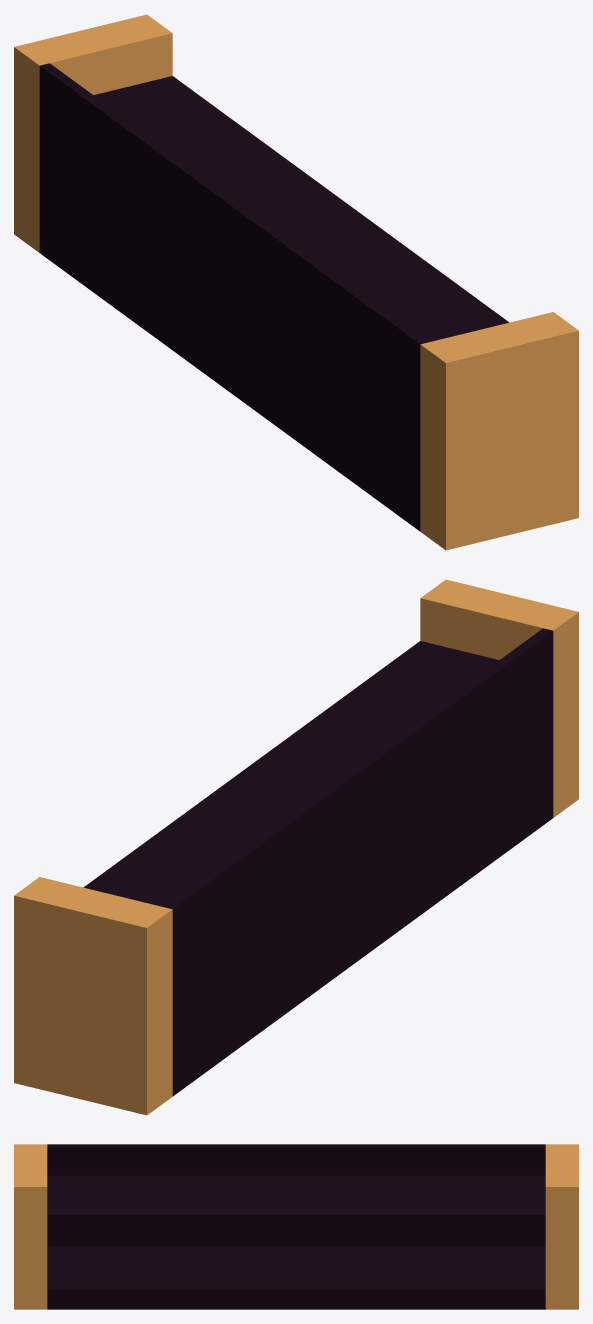
Rendered from Shelf.fbx.
3 renders of one model, top to bottom at view 1: azimuth 30°, elevation 25°; view 2: azimuth 150°, elevation 25°; view 3: azimuth 270°, elevation 25°, orthographic. The views are drawn at different scales.
Visible parts, largest first — view 1: Shelve; view 2: Shelve; view 3: Shelve.
Boxes of the visible parts, left/top/right/bottom form: Shelve: left=14, top=14, right=578, bottom=550; Shelve: left=14, top=579, right=578, bottom=1115; Shelve: left=14, top=1144, right=578, bottom=1309.
Bounding box in the file's own units: 56 × 70 × 292.
